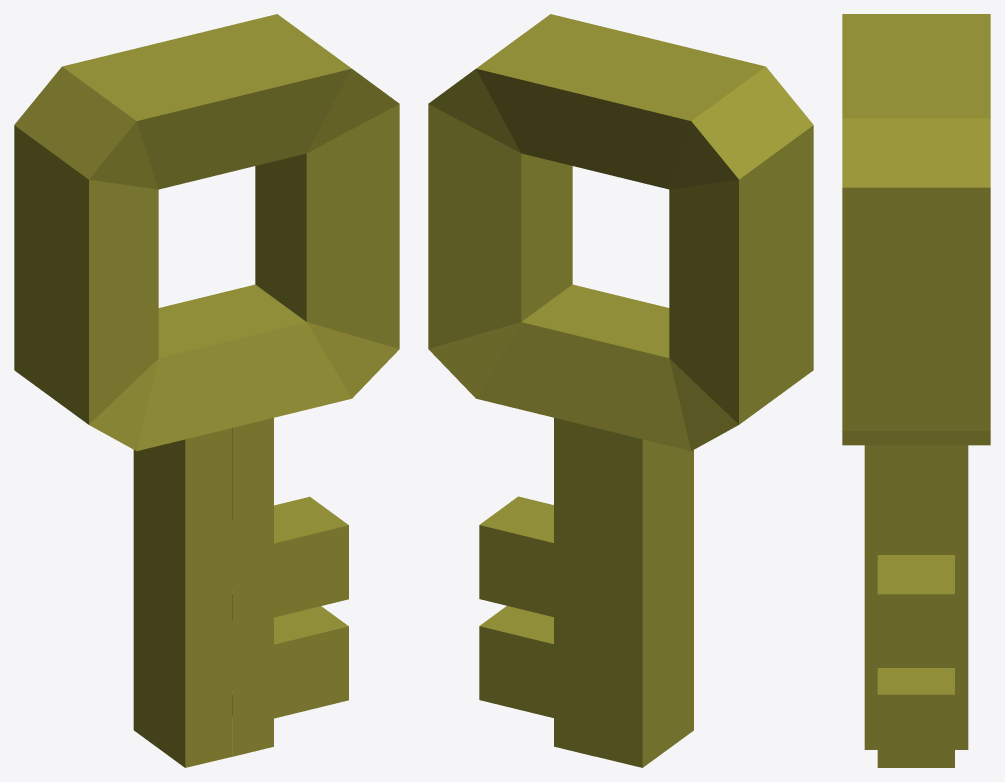
Rendered from Llave.fbx.
3 renders of one model, left to right at view 1: azimuth 30°, elevation 25°; view 2: azimuth 150°, elevation 25°; view 3: azimuth 270°, elevation 25°, orthographic.
Visible parts, largest first — view 1: pCube3; view 2: pCube3; view 3: pCube3.
Boxes of the visible parts, x1=… form: pCube3: x1=14, y1=14, x2=399, y2=767; pCube3: x1=428, y1=14, x2=813, y2=767; pCube3: x1=842, y1=14, x2=990, y2=767.
Size of the model in its own units: 0.9858 by 2.03 by 0.4101.
